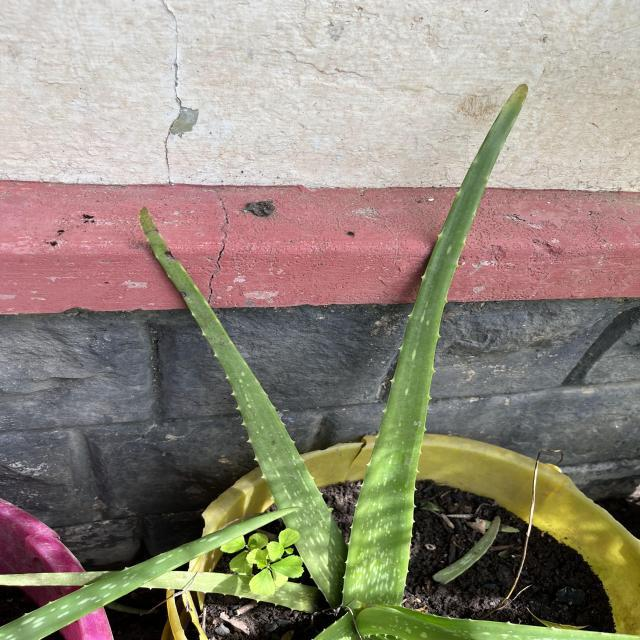Aloe vera: (341, 80, 533, 617), (136, 197, 352, 589)
